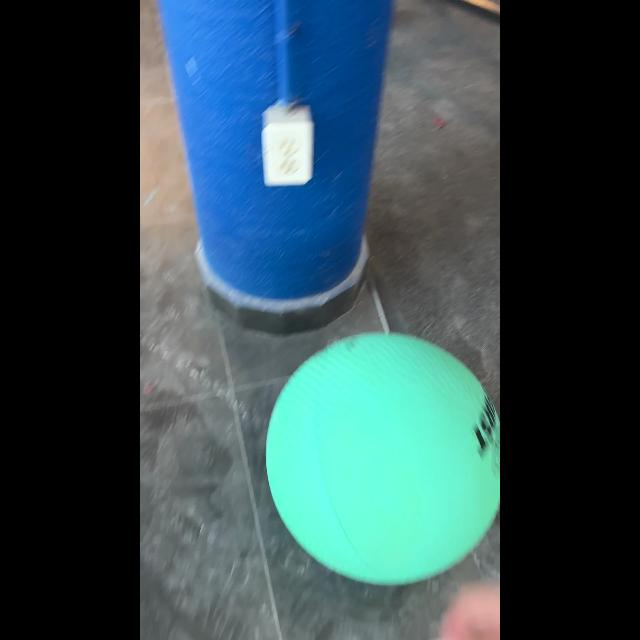ALGAE: (265, 330, 499, 586)
